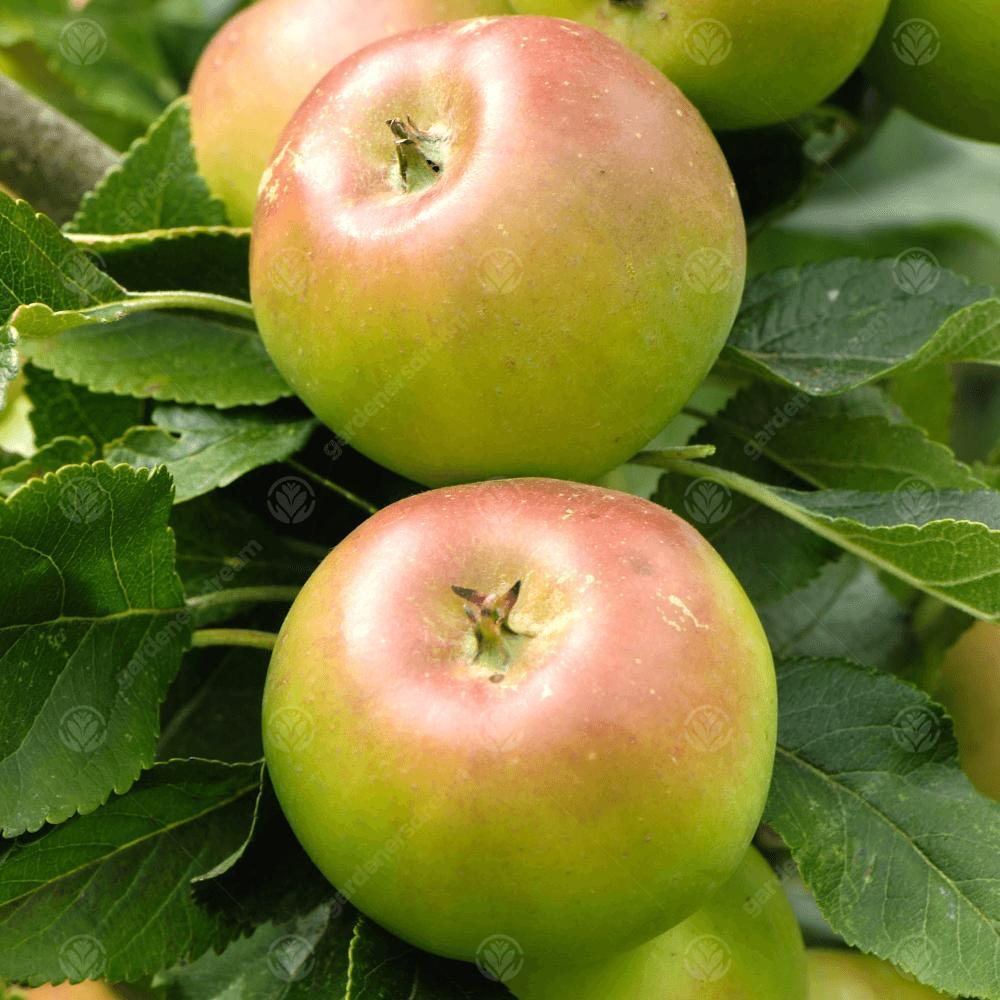apple: (258, 485, 788, 988), (225, 26, 748, 505)
